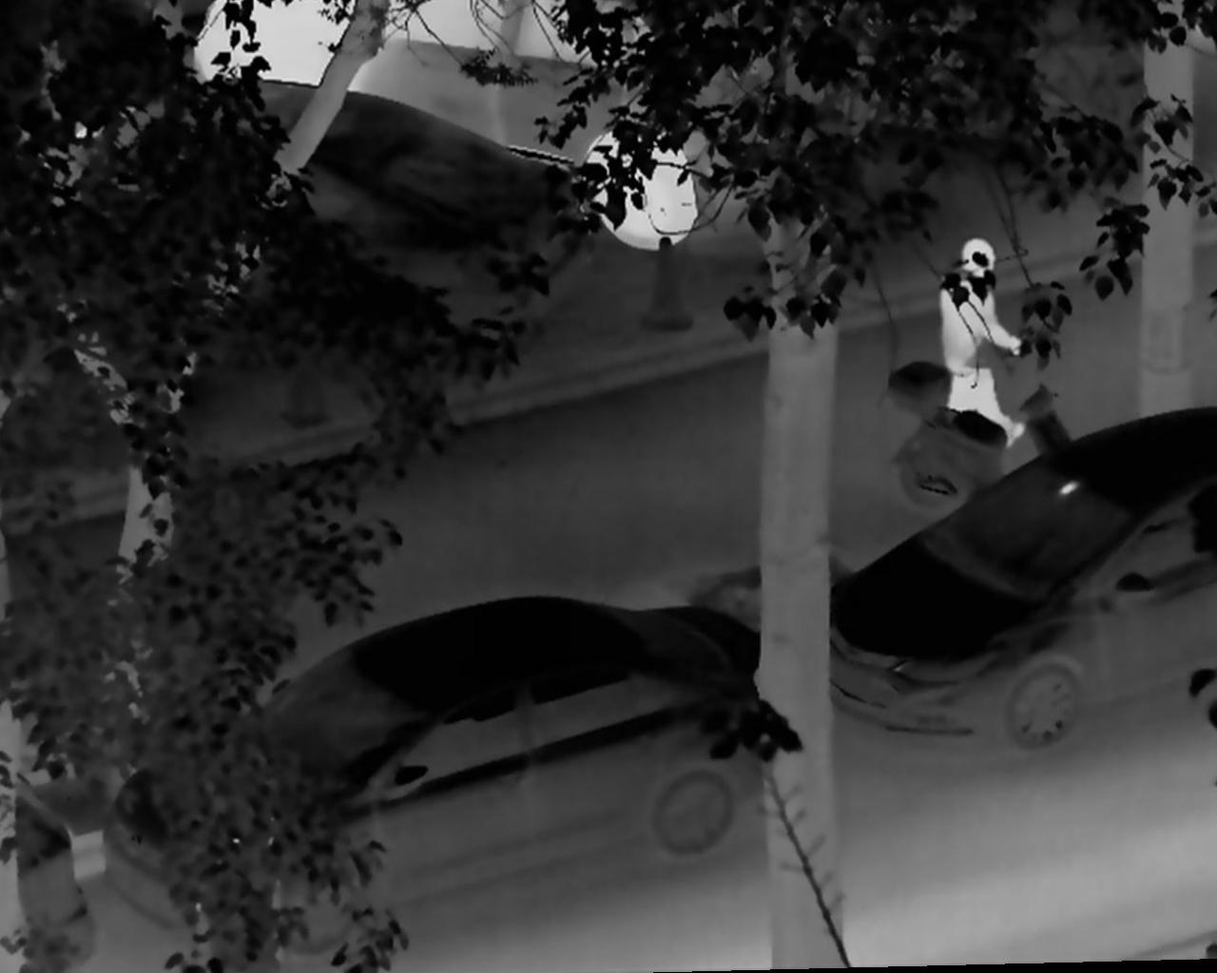person: (929, 228, 1031, 460)
